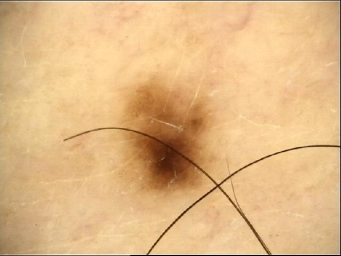melanoma: (123, 88, 201, 187)
